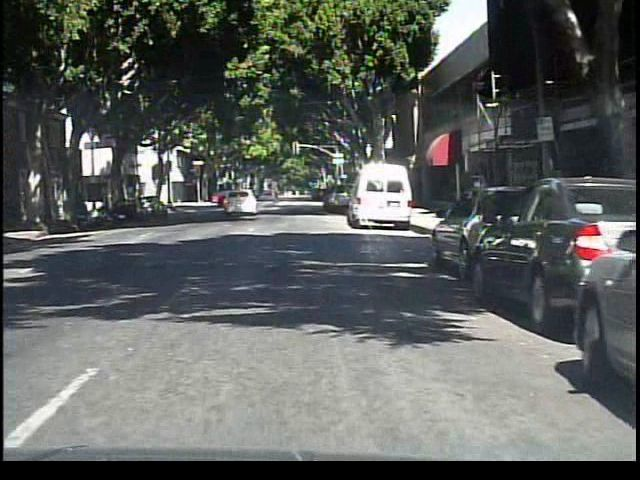person: (465, 167, 494, 226), (265, 177, 285, 210)
